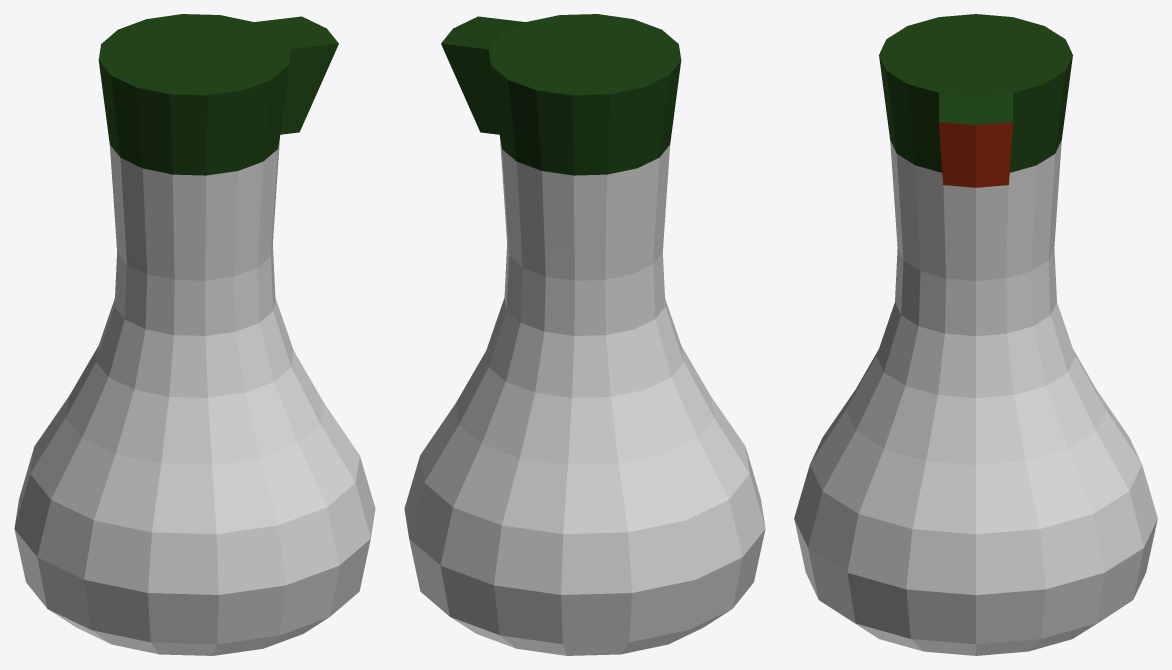
File: Condiment - Soy Sauce.fbx
3 renders of one model, left to right at view 1: azimuth 30°, elevation 25°; view 2: azimuth 150°, elevation 25°; view 3: azimuth 270°, elevation 25°, orthographic.
Visible parts, largest first — view 1: Bottle, Cap; view 2: Bottle, Cap; view 3: Bottle, Cap.
Boxes of the visible parts, x1,y1,x2,y2 form: Bottle: (14,135,375,655); Cap: (98,14,338,175); Bottle: (404,135,765,655); Cap: (441,14,681,175); Bottle: (794,140,1157,655); Cap: (879,14,1072,187).
Bounding box in the file's own units: 24.69 × 40.68 × 24.69.
